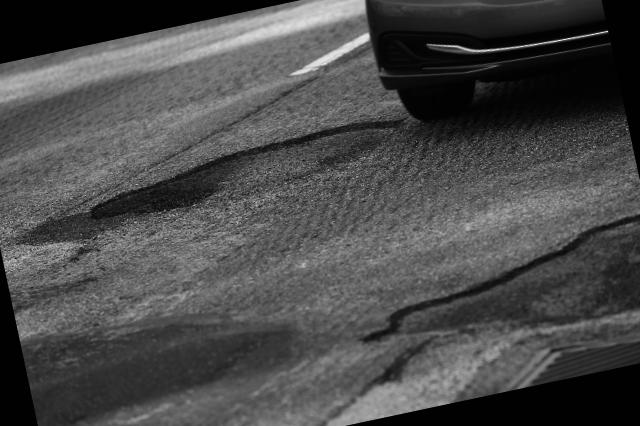Pothole: (357, 199, 640, 415), (70, 104, 410, 247)
